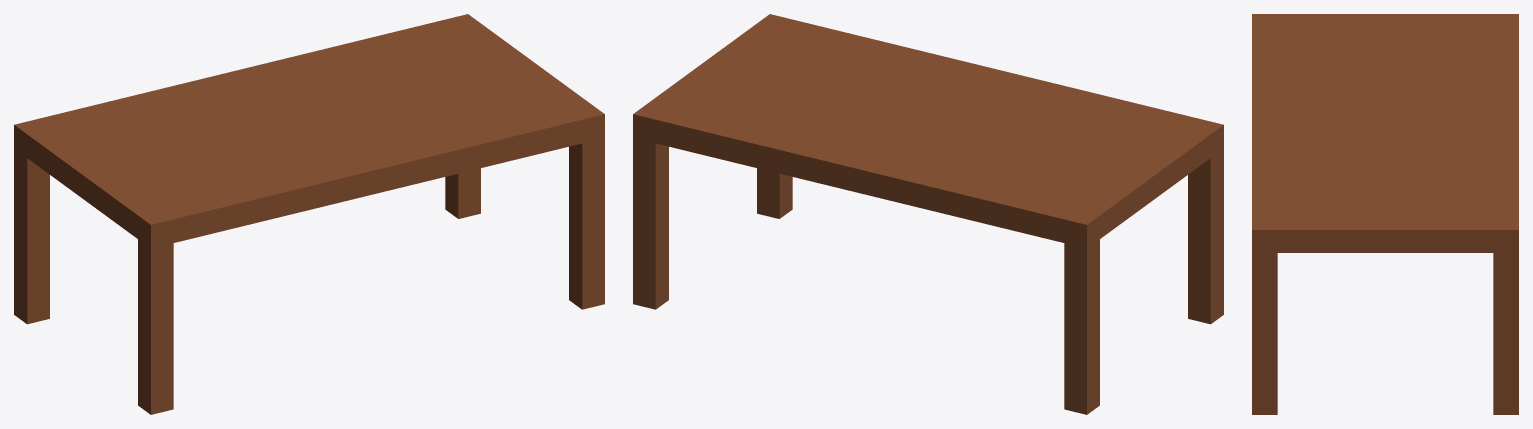
File: tableplain02.gltf
The picture shows the model from 3 angles, left to right: view 1: azimuth 30°, elevation 25°; view 2: azimuth 150°, elevation 25°; view 3: azimuth 270°, elevation 25°; orthographic projection. The views are drawn at different scales.
Visible parts, largest first — view 1: Cube; view 2: Cube; view 3: Cube.
Boxes of the visible parts, box(x1,y1,x2,y2) form: Cube: box(14, 14, 604, 414); Cube: box(633, 14, 1223, 414); Cube: box(1252, 14, 1518, 414).
Bounding box in the file's own units: 2 × 0.8 × 1.04.
1 material, 1 textured.
